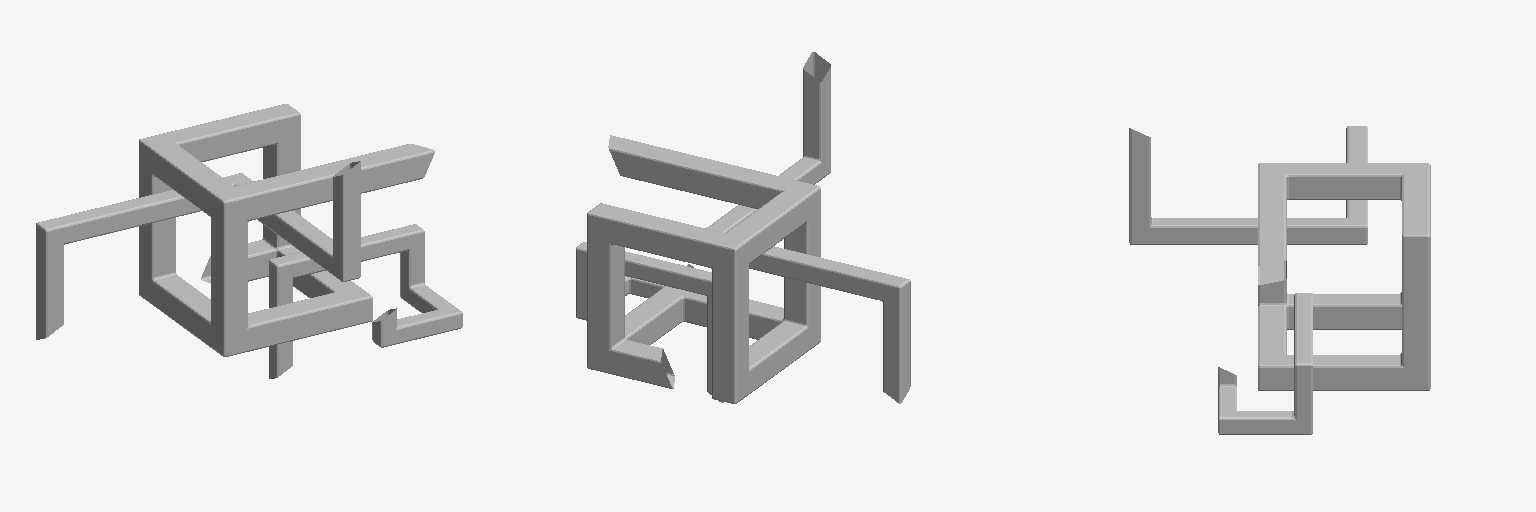
File: ImpossibleShape.obj
The picture shows the model from 3 angles: view 1: azimuth 30°, elevation 25°; view 2: azimuth 150°, elevation 25°; view 3: azimuth 270°, elevation 25°; orthographic projection.
Visible parts, largest first — view 1: Penrose.001_Penrose.003; view 2: Penrose.001_Penrose.003; view 3: Penrose.001_Penrose.003.
Part boxes in pixels (bbox=[...]): Penrose.001_Penrose.003: bbox=[36, 104, 462, 378]; Penrose.001_Penrose.003: bbox=[576, 52, 910, 403]; Penrose.001_Penrose.003: bbox=[1129, 126, 1430, 434].
Size of the model in its own units: 28.34 by 21.81 by 20.92.